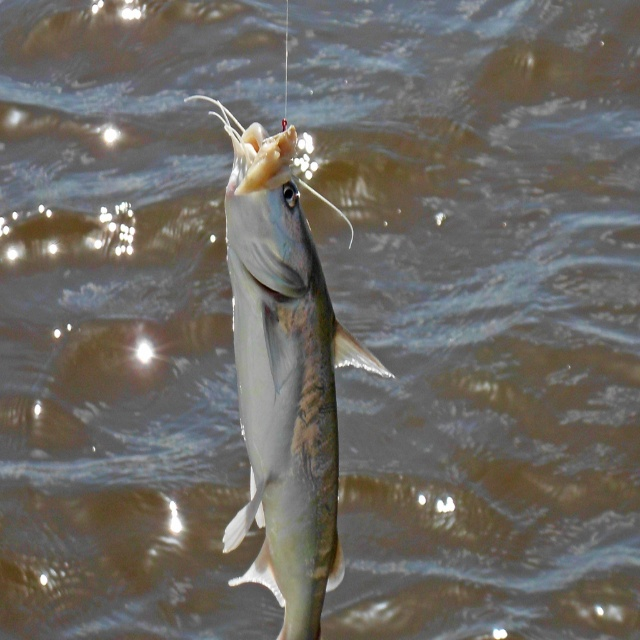Fish: (227, 87, 394, 640)
